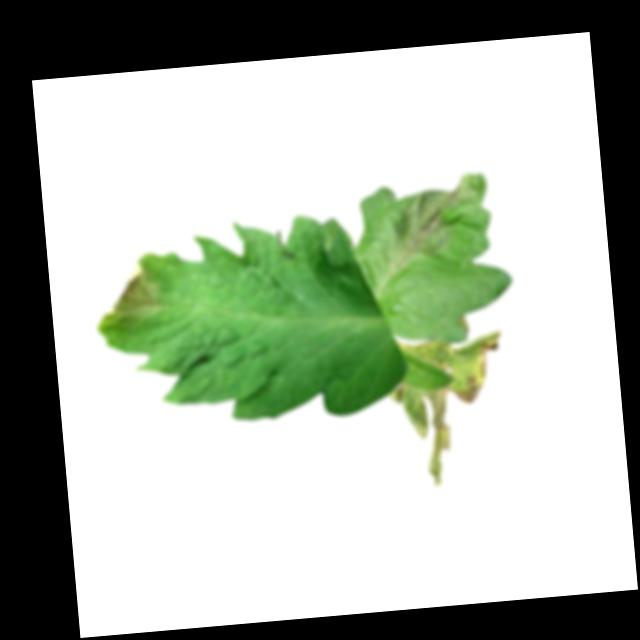Late_blight: (390, 327, 515, 487), (381, 171, 489, 267), (99, 262, 165, 324)
